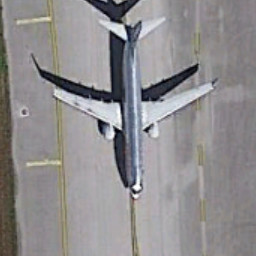Airplane: (43, 10, 225, 206)
